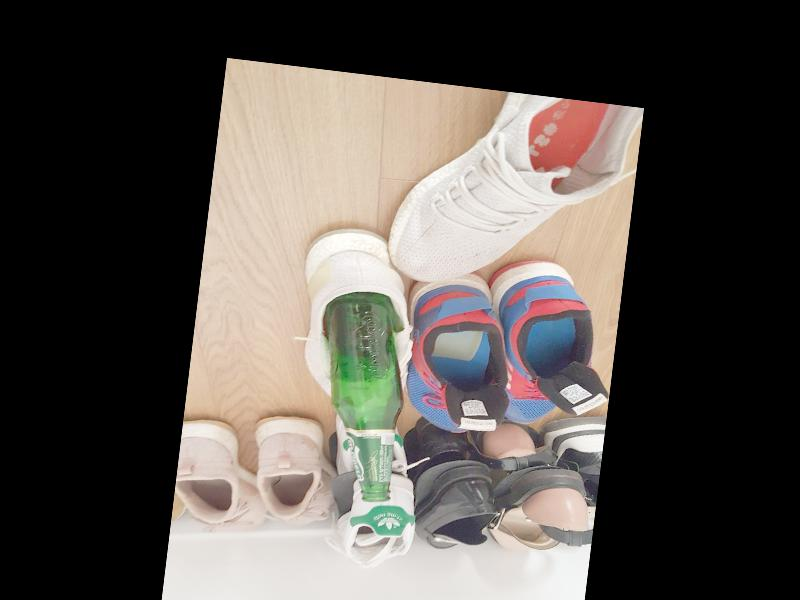Beer: (304, 288, 416, 502)
